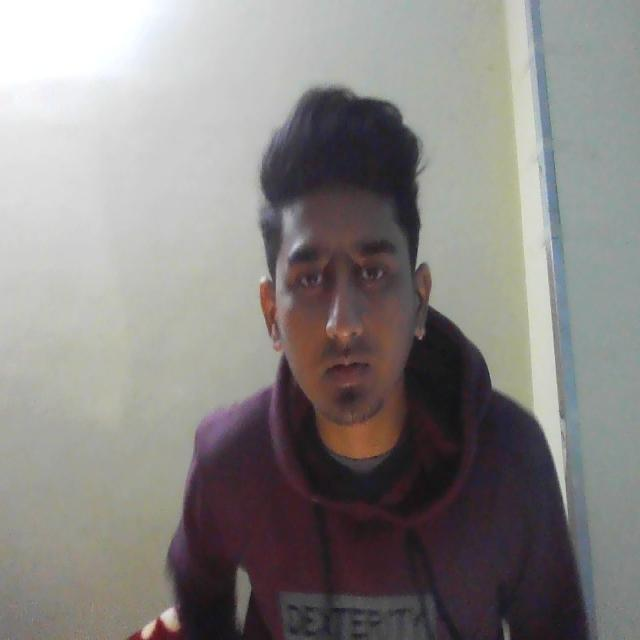real: (259, 100, 446, 453)
